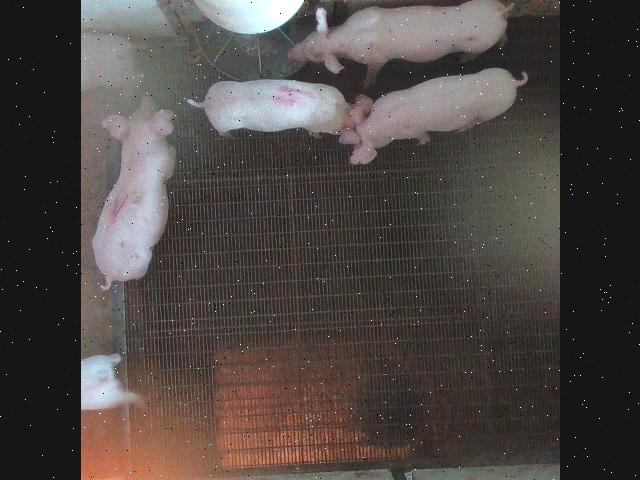pig-1: (91, 98, 175, 290)
pig-4: (188, 79, 372, 145)
